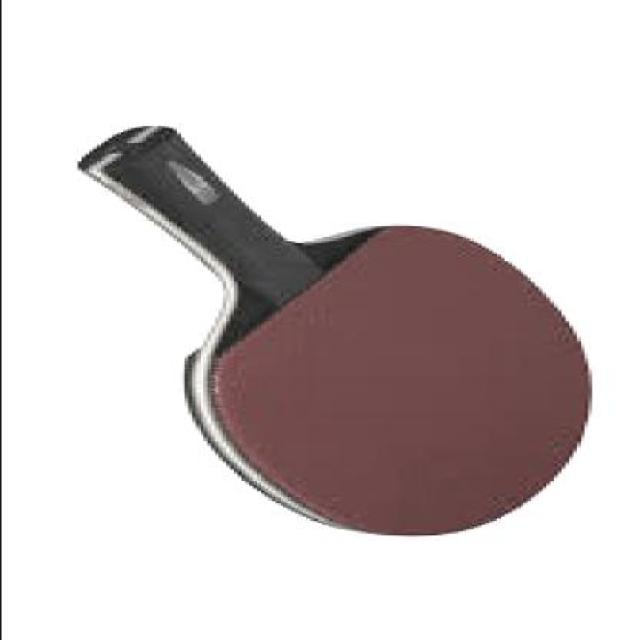table_tennis_racket: (181, 222, 596, 538)
